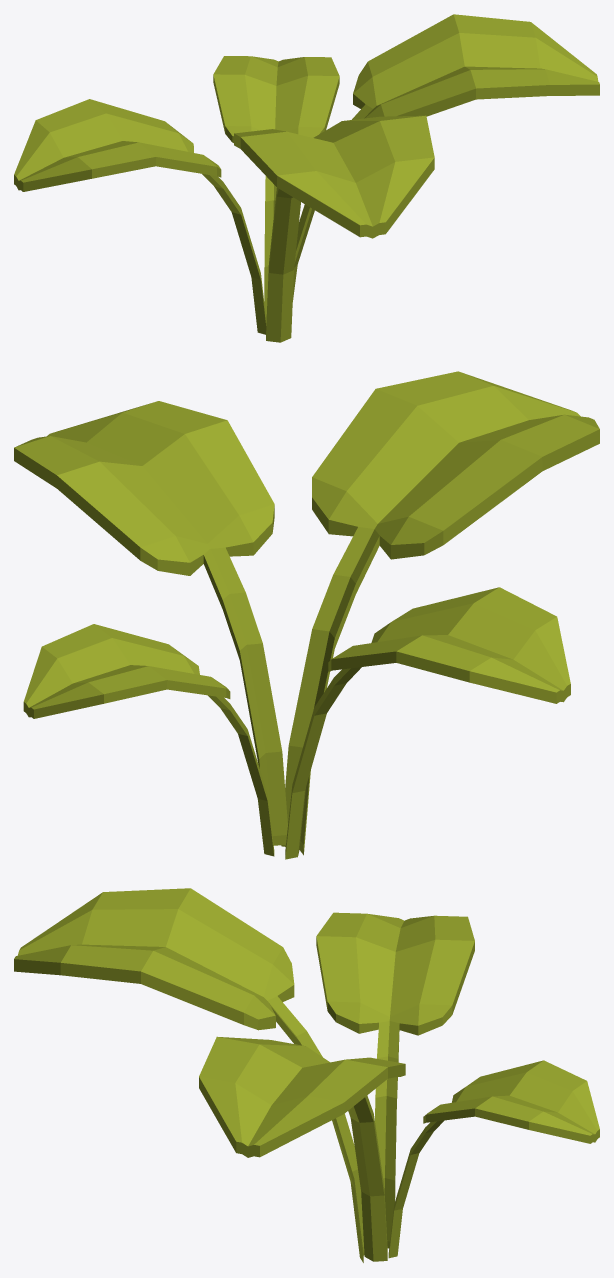
Rendered from Leaf Plant 2.fbx.
3 renders of one model, top to bottom at view 1: azimuth 30°, elevation 25°; view 2: azimuth 150°, elevation 25°; view 3: azimuth 270°, elevation 25°, orthographic. The views are drawn at different scales.
Visible parts, largest first — view 1: Plant 1; view 2: Plant 1; view 3: Plant 1.
Part boxes in pixels (x1,y1,x2,y2): Plant 1: [14, 14, 599, 342]; Plant 1: [14, 371, 599, 859]; Plant 1: [14, 888, 599, 1262].
Size of the model in its own units: 29.97 by 16.54 by 28.54.
